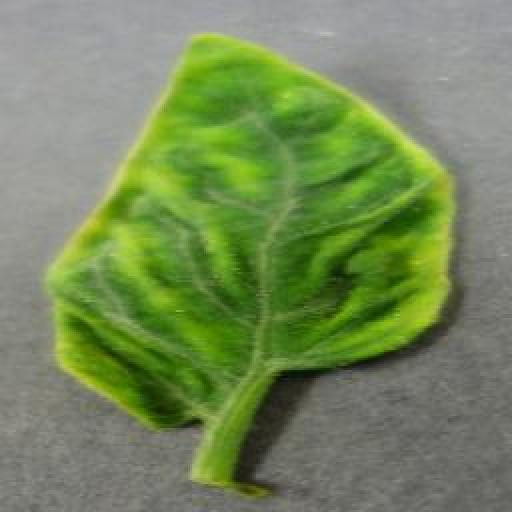Yellow Leaf Curl Virus: (44, 31, 460, 432)
